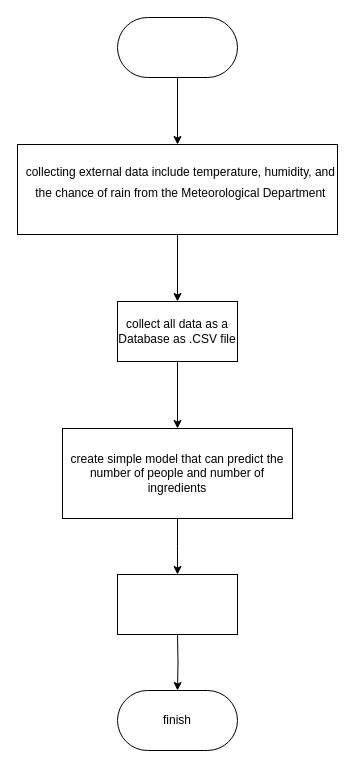
Image size: 355x768. Some labels were removed from this diagram. The box of each missing label's shape, as (x1, y1, x2, y2) in pixels:
deploy on web by using heroku: (116, 574, 238, 634)
start: (116, 16, 238, 78)
